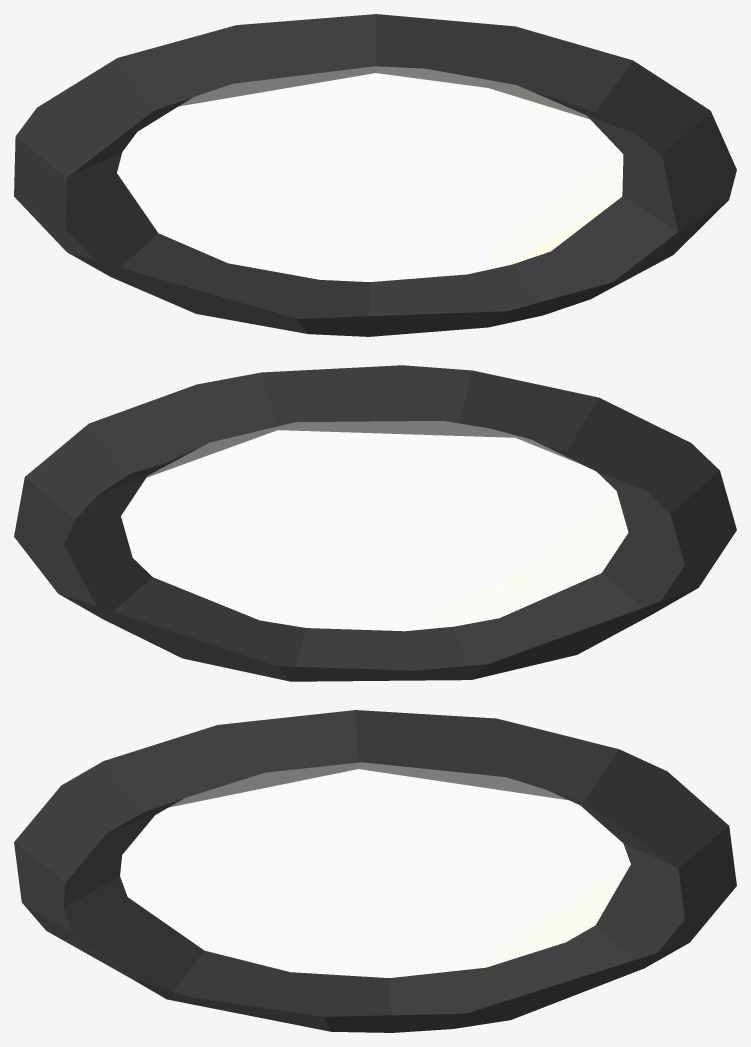
File: light.glb
The picture shows the model from 3 angles, top to bottom: view 1: azimuth 30°, elevation 25°; view 2: azimuth 150°, elevation 25°; view 3: azimuth 270°, elevation 25°; orthographic projection.
Parts seen in each view (by area): view 1: Recep_Light; view 2: Recep_Light; view 3: Recep_Light.
Boxes of the visible parts, box(x1,y1,x2,y2) form: Recep_Light: box(14, 14, 736, 336); Recep_Light: box(14, 365, 736, 681); Recep_Light: box(14, 710, 736, 1032).
Size of the model in its own units: 0.7079 by 0.1176 by 0.7049.
